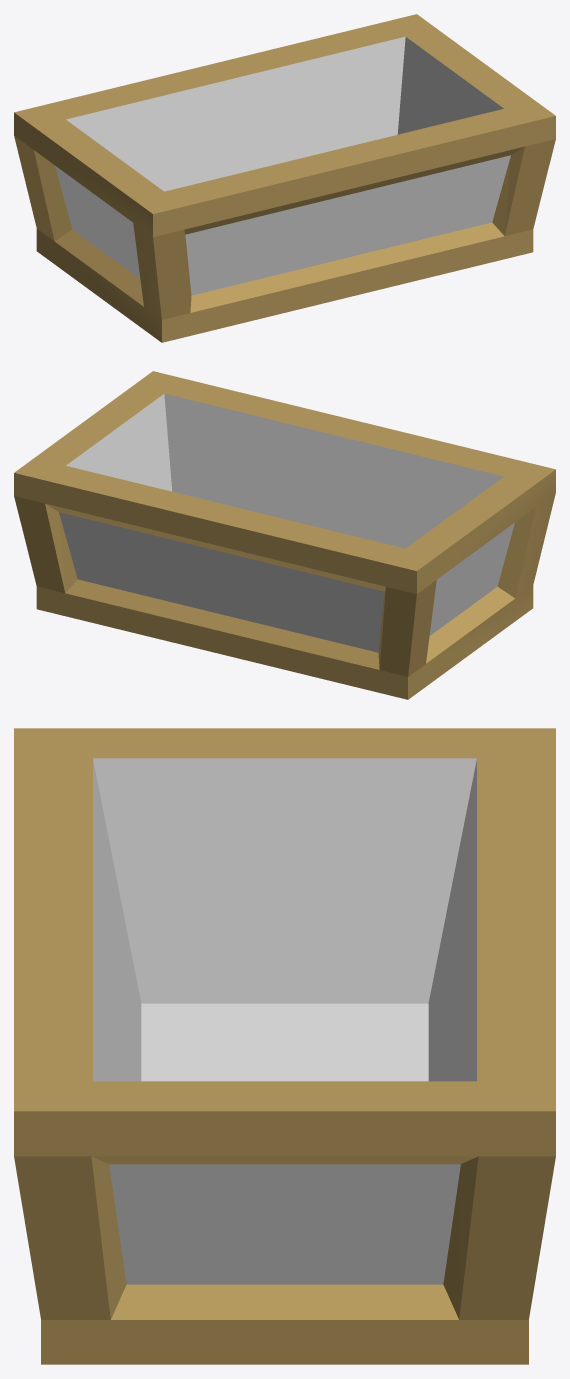
The model's file is chest_rare.dae.
The picture shows the model from 3 angles, top to bottom: view 1: azimuth 30°, elevation 25°; view 2: azimuth 150°, elevation 25°; view 3: azimuth 270°, elevation 25°; orthographic projection. The views are drawn at different scales.
Visible parts, largest first — view 1: chest_rare; view 2: chest_rare; view 3: chest_rare.
Part boxes in pixels (x1,y1,x2,y2): chest_rare: (14,14,555,342); chest_rare: (14,371,555,699); chest_rare: (14,728,555,1364).
Bounding box in the file's own units: 1.84 × 1.1 × 0.6007.
